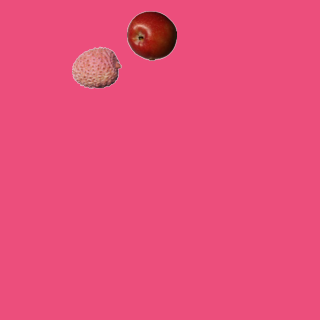Apple Braeburn: (126, 10, 176, 60)
Lychee: (71, 42, 121, 92)
